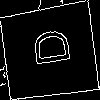D: (25, 27, 71, 69)
